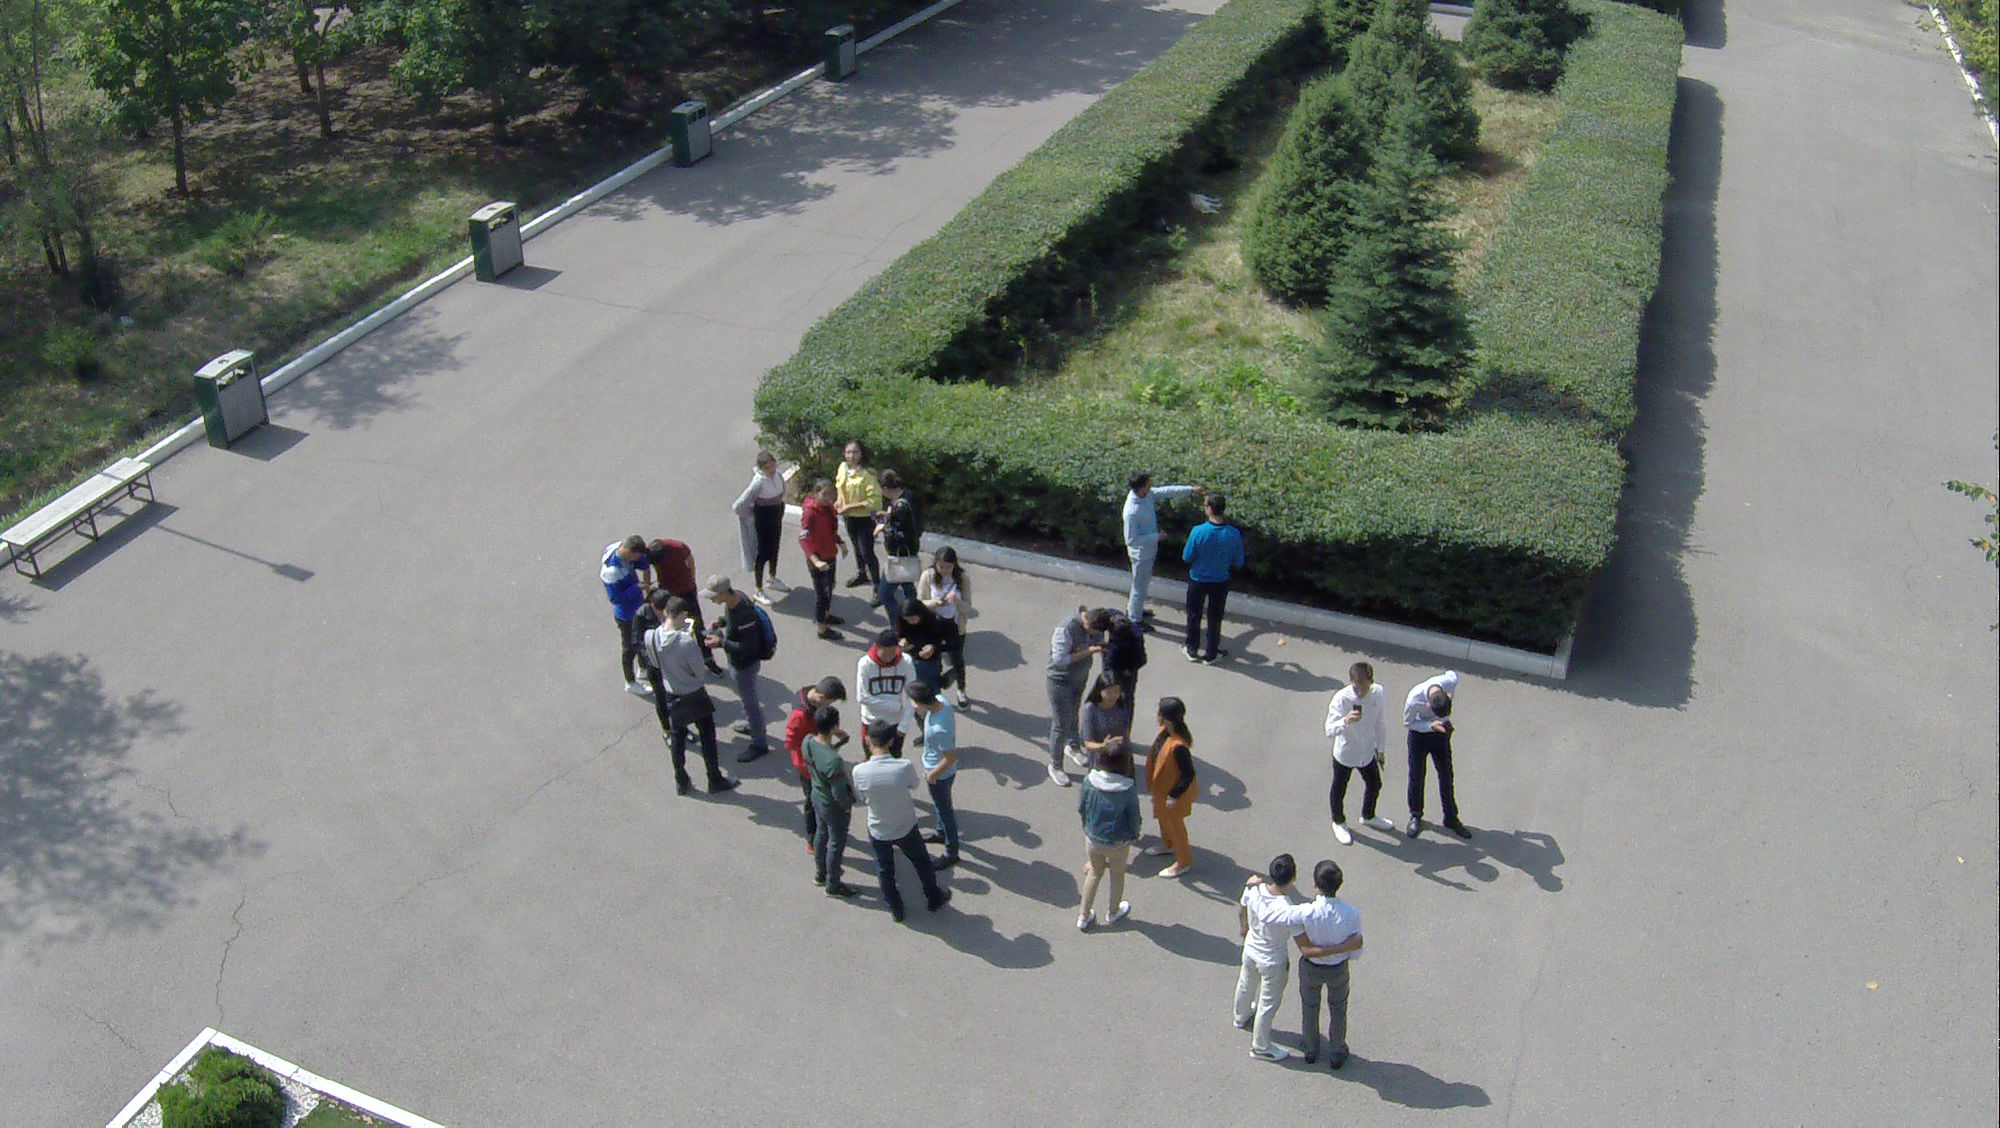person: (653, 603, 732, 805), (1070, 726, 1143, 939), (1232, 851, 1299, 1058), (710, 568, 778, 770), (1301, 864, 1368, 1064), (1324, 658, 1389, 862), (1107, 466, 1185, 633), (1407, 660, 1478, 841), (1187, 487, 1255, 674), (1143, 687, 1201, 883), (589, 518, 649, 708), (912, 689, 972, 864), (899, 593, 985, 705), (803, 710, 851, 899), (797, 483, 845, 641), (737, 458, 793, 593), (843, 441, 891, 578), (789, 676, 837, 768), (876, 470, 922, 568), (853, 639, 903, 728), (641, 528, 691, 605), (924, 549, 964, 641)
